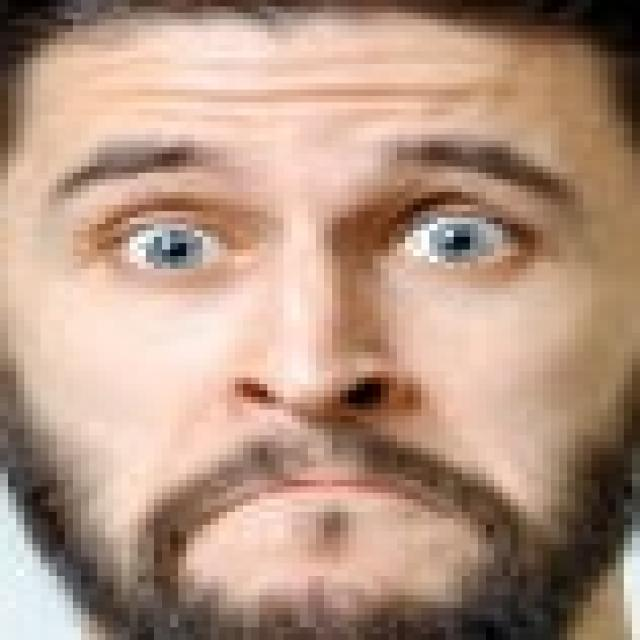Anxiety: (0, 18, 632, 634)
